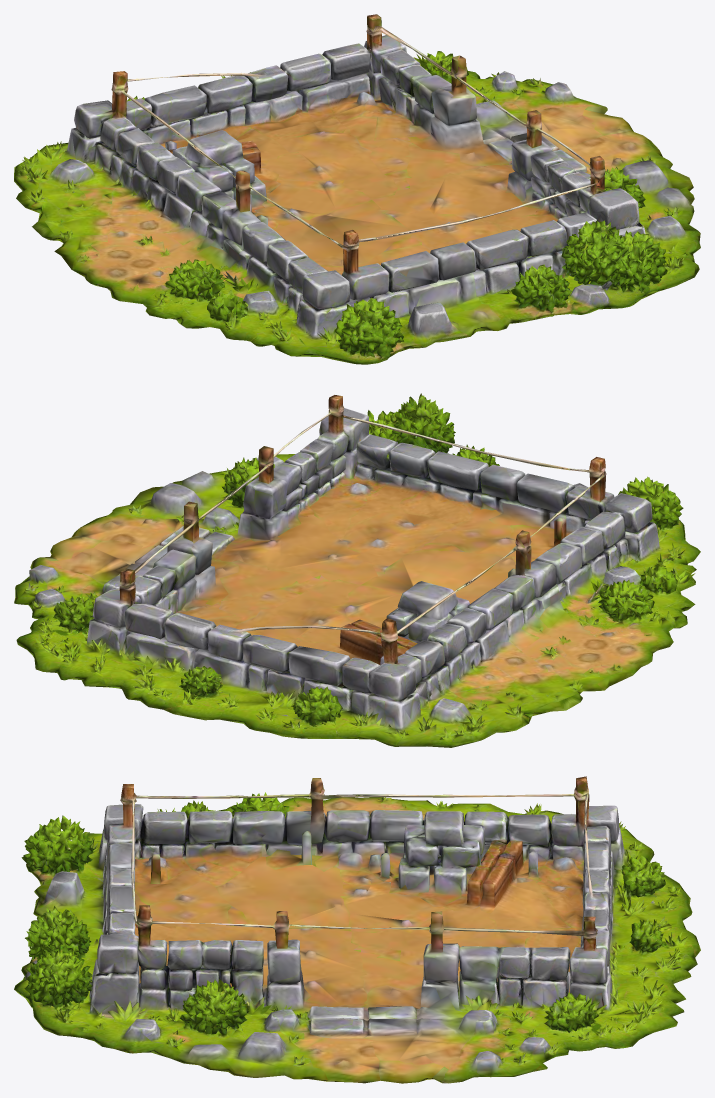
The model's file is cuartel_e1.glb.
The picture shows the model from 3 angles, top to bottom: view 1: azimuth 30°, elevation 25°; view 2: azimuth 150°, elevation 25°; view 3: azimuth 270°, elevation 25°; orthographic projection. The views are drawn at different scales.
Size of the model in its own units: 1.87 by 0.3002 by 1.9.
Materials: 1 (1 with a texture image).
